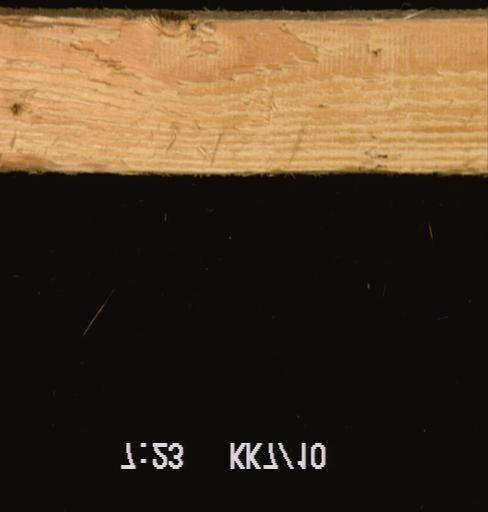edge_knot: (147, 11, 207, 45)
small_knot: (5, 97, 26, 123)
wave: (0, 8, 141, 36), (0, 153, 138, 173)
